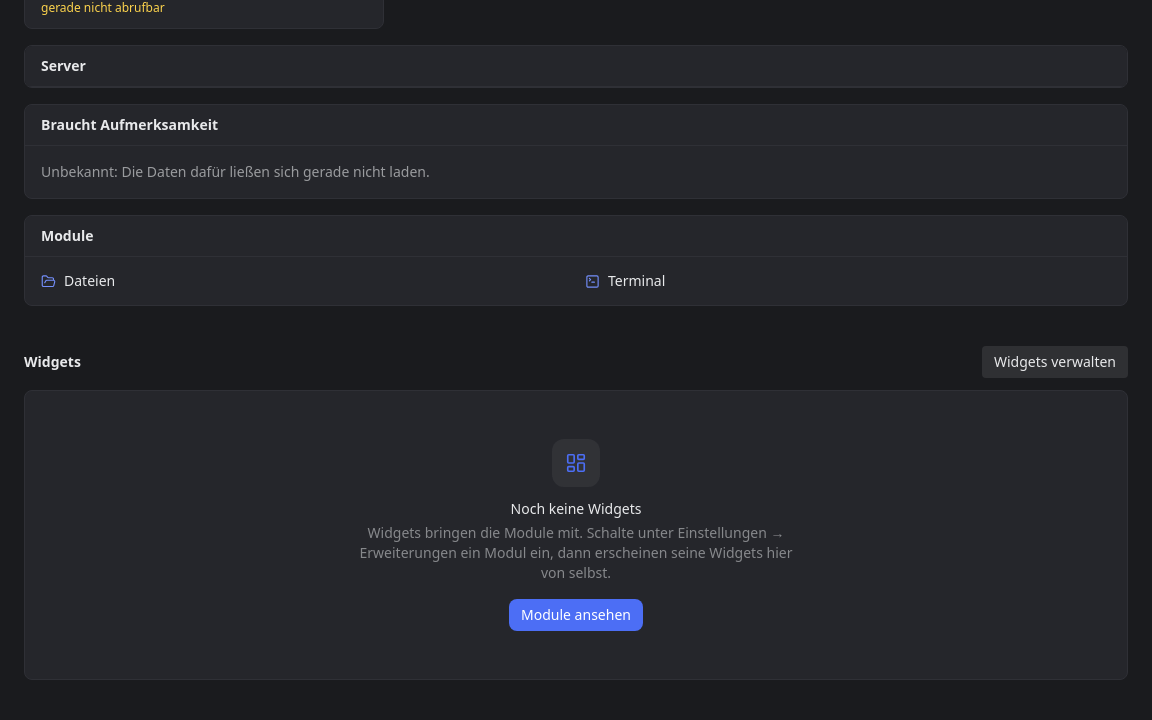
DashboardPage Leerzustände › der Widget-Dialog ohne Widgets zeigt ebenfalls den Hinweis statt einer leeren Liste
(page scrolled)
Expected: the element with test id "dashboard-no-widgets" is shown, [24,390,1128,680]
Click the button "Widgets verwalten" at (1055, 362), box [982,346,1128,378]
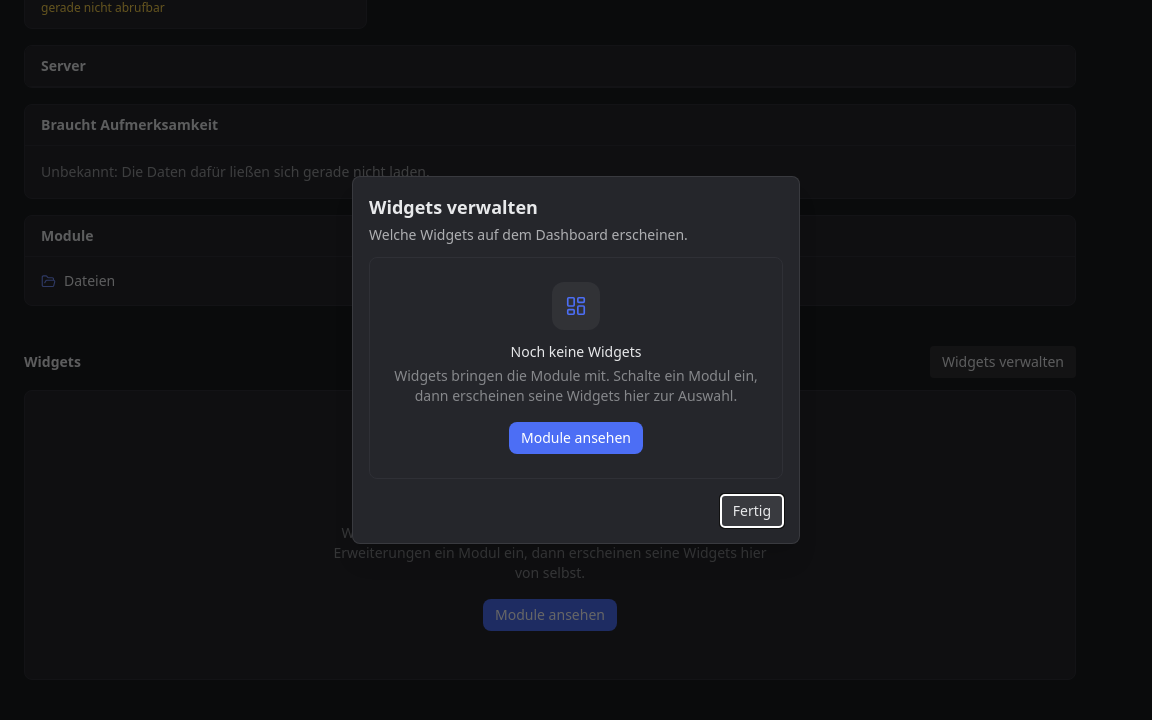
Expected: the text "Noch keine Widgets" is shown, [511,342,641,362]
